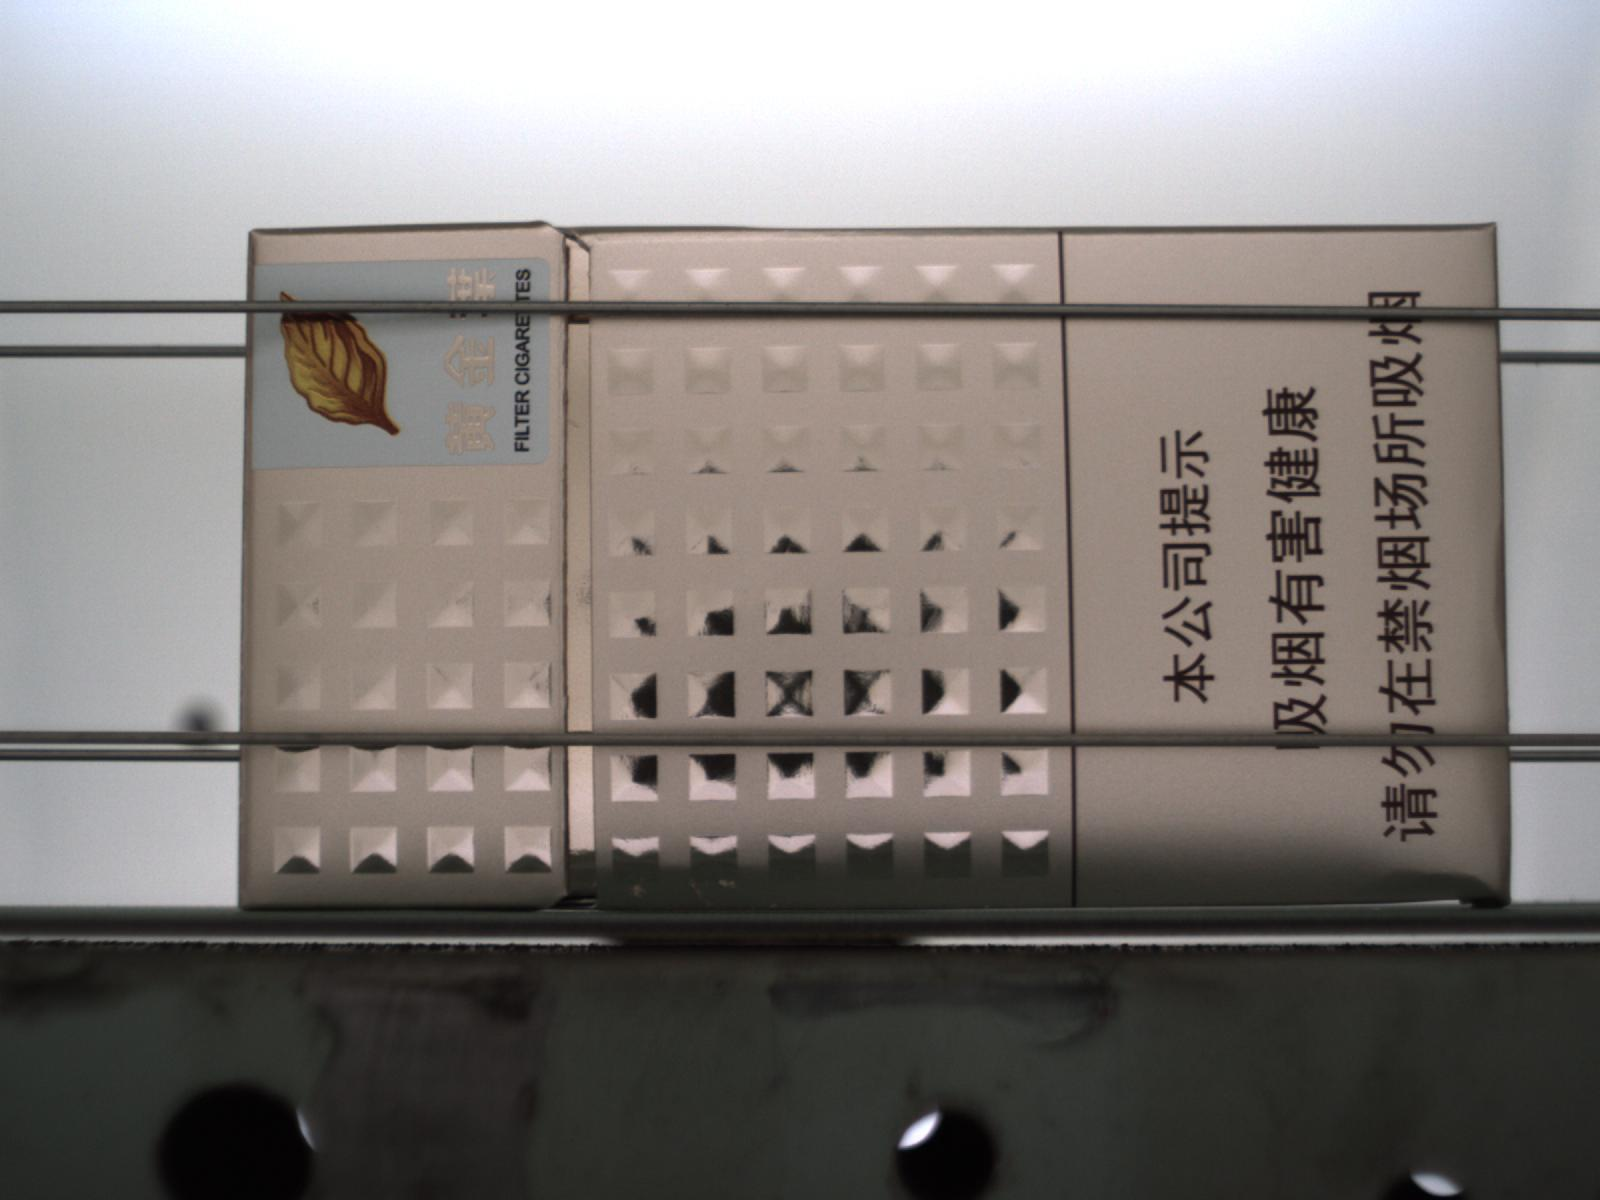boxDamage_slight: (580, 834, 1511, 913)
skewed_upper_0: (552, 223, 800, 255)
